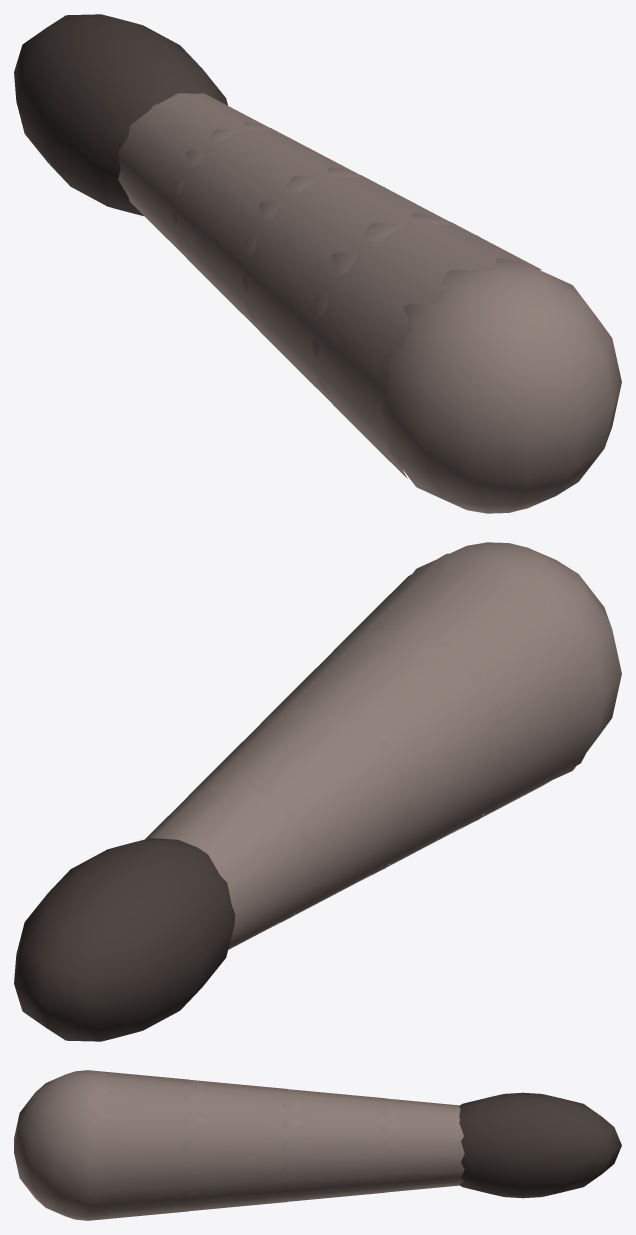
The model's file is hippo_tail.glb.
3 views of the same model, one above another, from view 1: azimuth 30°, elevation 25°; view 2: azimuth 150°, elevation 25°; view 3: azimuth 270°, elevation 25° (orthographic). The views are drawn at different scales.
Visible parts, largest first — view 1: hippo_tail_seg01, hippo_tail_seg04, hippo_tail_seg02, hippo_tail_seg03; view 2: hippo_tail_seg04, hippo_tail_seg01, hippo_tail_seg02, hippo_tail_seg03; view 3: hippo_tail_seg01, hippo_tail_seg04, hippo_tail_seg02, hippo_tail_seg03.
Part boxes in pixels (x1,y1,x2,y2): hippo_tail_seg01: [314, 222, 621, 513]; hippo_tail_seg04: [14, 14, 270, 256]; hippo_tail_seg02: [244, 175, 478, 402]; hippo_tail_seg03: [173, 128, 385, 329]; hippo_tail_seg04: [14, 779, 313, 1041]; hippo_tail_seg01: [333, 542, 621, 832]; hippo_tail_seg02: [261, 626, 509, 879]; hippo_tail_seg03: [188, 703, 411, 925]; hippo_tail_seg01: [14, 1070, 188, 1220]; hippo_tail_seg04: [381, 1092, 621, 1198]; hippo_tail_seg02: [182, 1079, 287, 1211]; hippo_tail_seg03: [281, 1089, 386, 1201].
Size of the model in its own units: 0.1608 by 0.1608 by 0.6481.
1 material, 1 textured.
